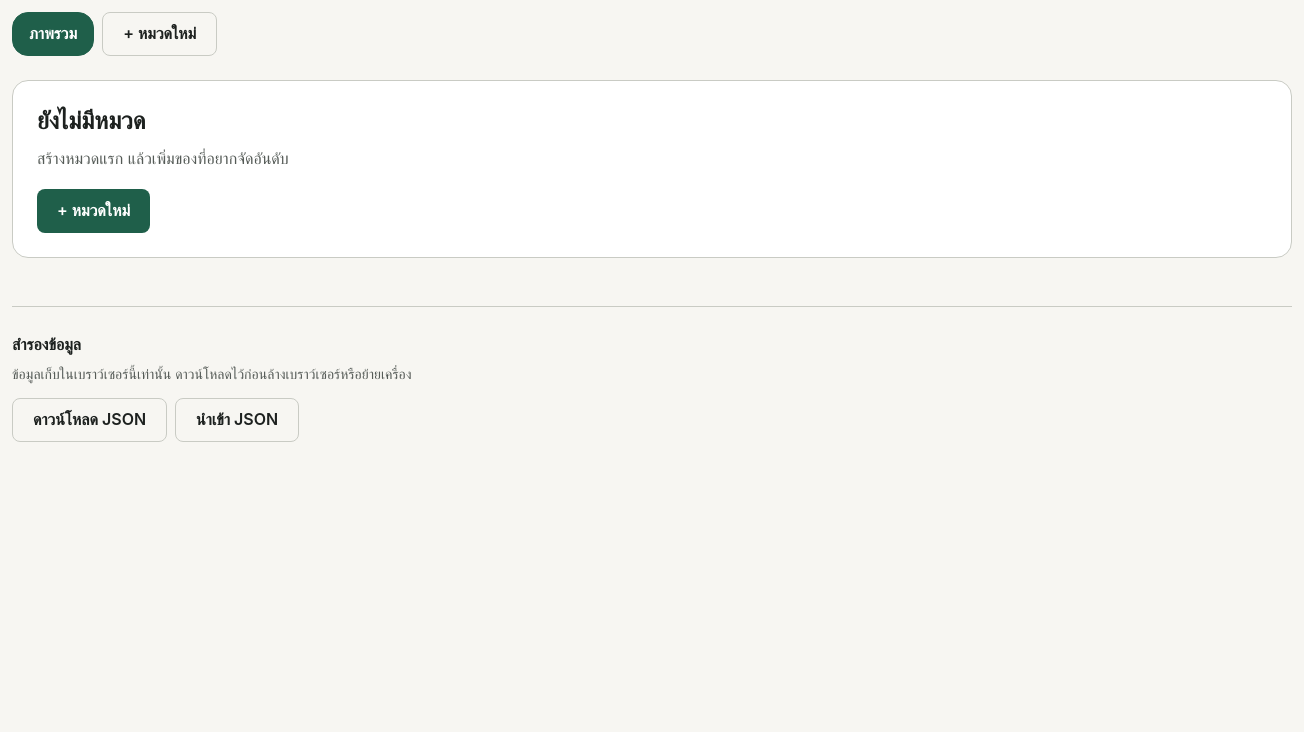
Test: TierBoard › shows an empty overview with a create button
Check: the heading "ยังไม่มีหมวด" is shown, box [37,106,145,135]
Click the button "+ หมวดใหม่" below "ยังไม่มีหมวด": coordinates (94, 211) [37,189,150,233]
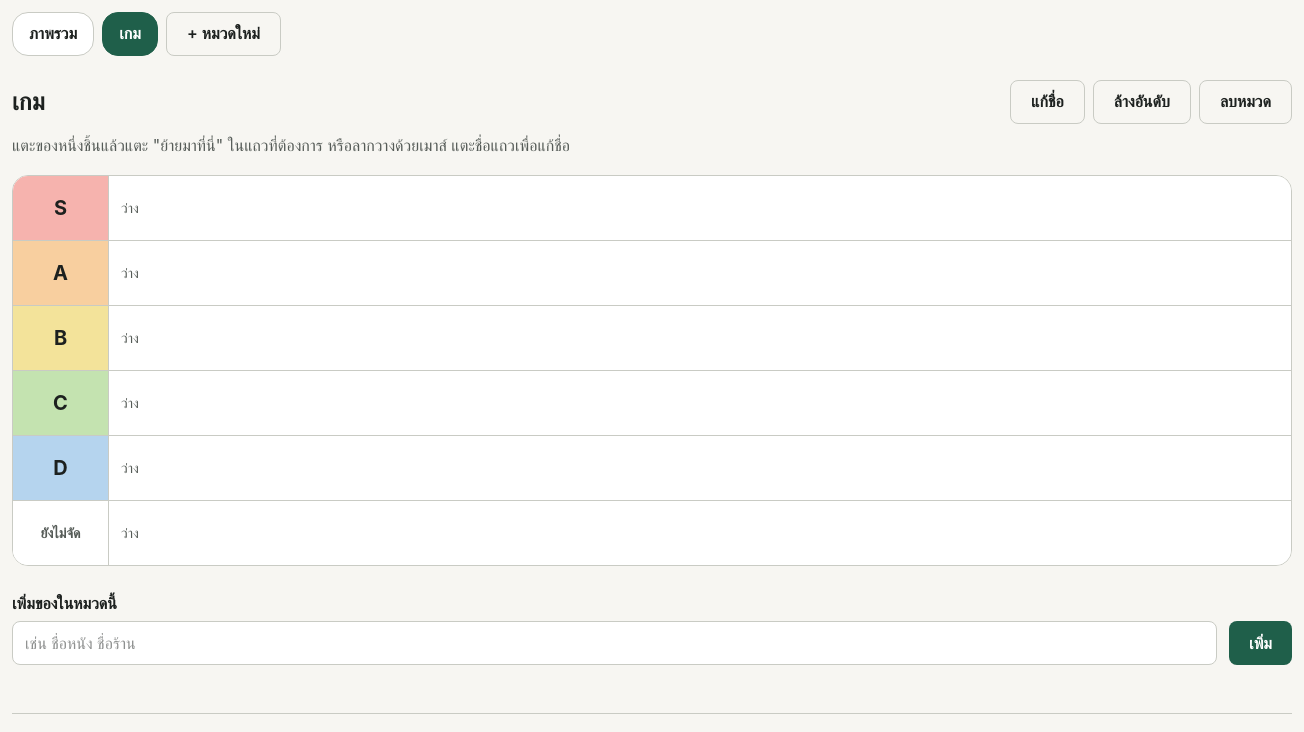
Check: the heading "เกม" is shown, box [12,86,45,118]
